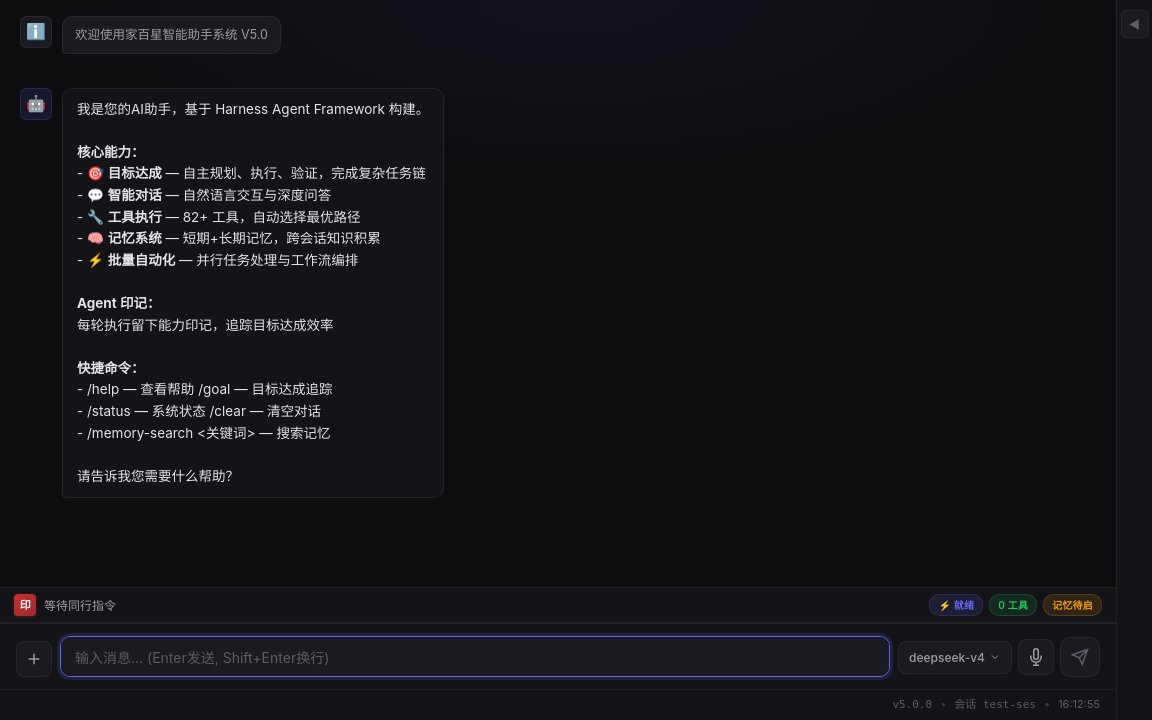
Test case: DesktopDashboard › opens and closes settings panel
点击左侧 + 号打开快捷工具菜单
Click the button titled "快捷工具".
click(34, 659)  # box [16, 641, 52, 677]
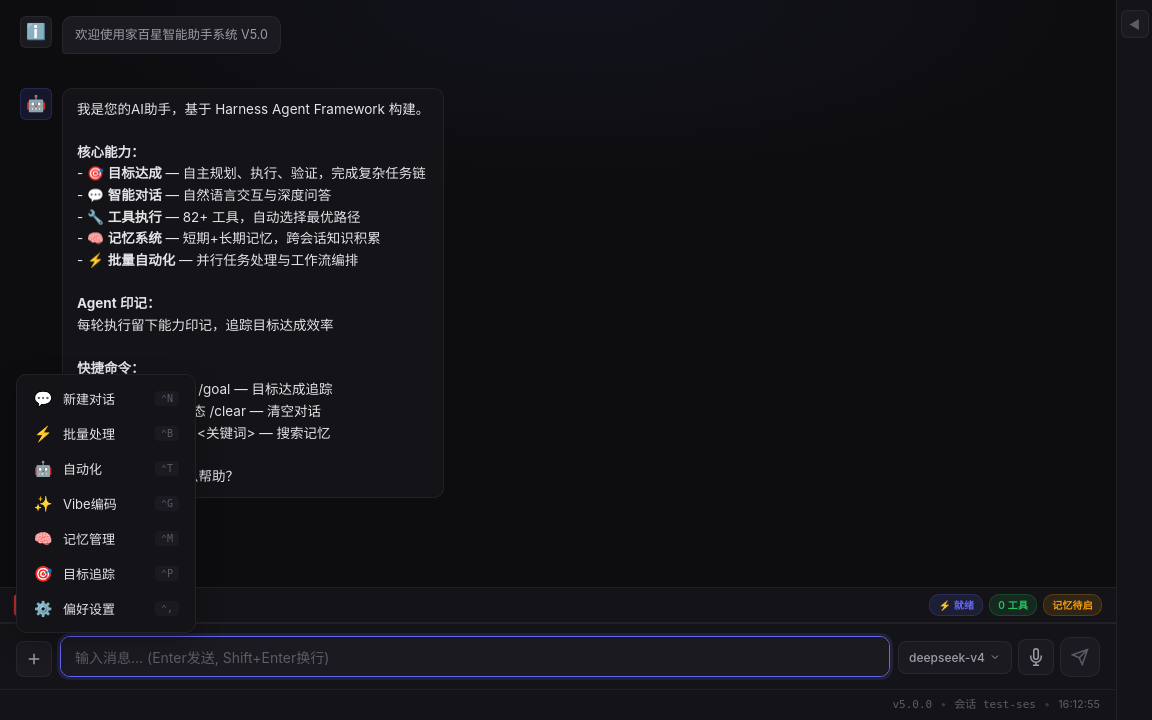
Click the text "偏好设置".
click(89, 609)  # box [63, 601, 115, 617]
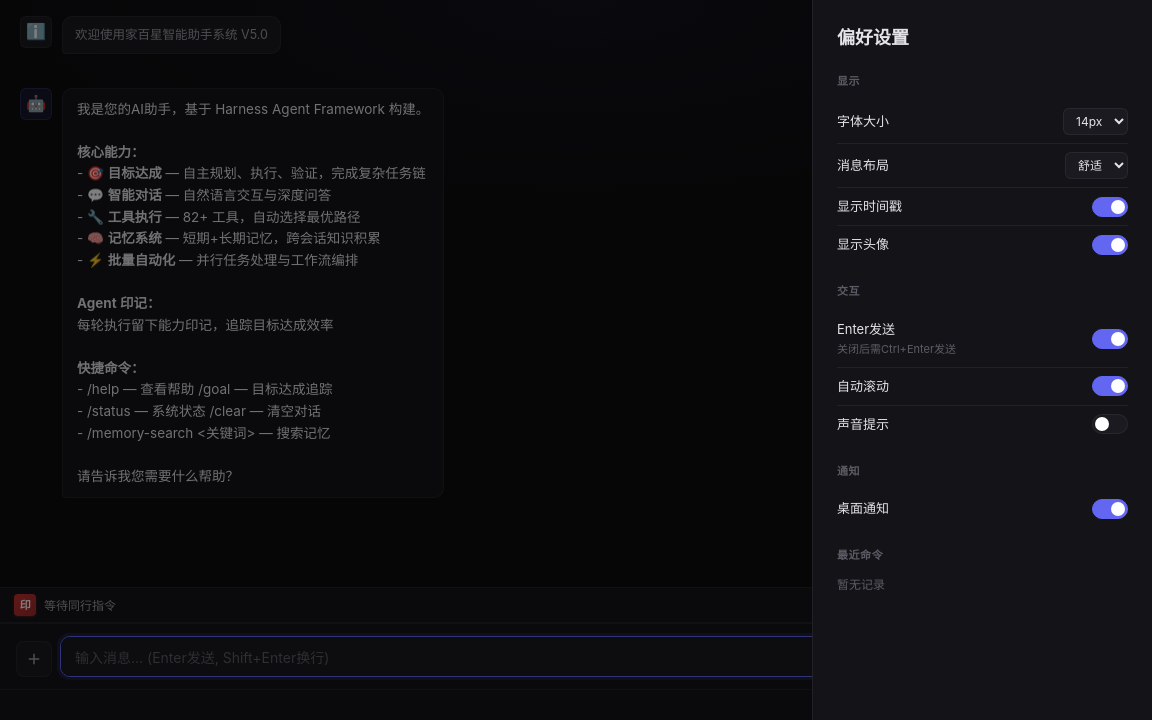
Expected: the text "偏好设置" is shown, [837, 27, 909, 48]
Expected: the text "字体大小" is shown, [837, 112, 889, 132]
Expected: the element with class "hermes-settings-overlay" is shown
Click the element with class "hermes-settings-overlay".
click(576, 360)  # box [0, 0, 1151, 719]
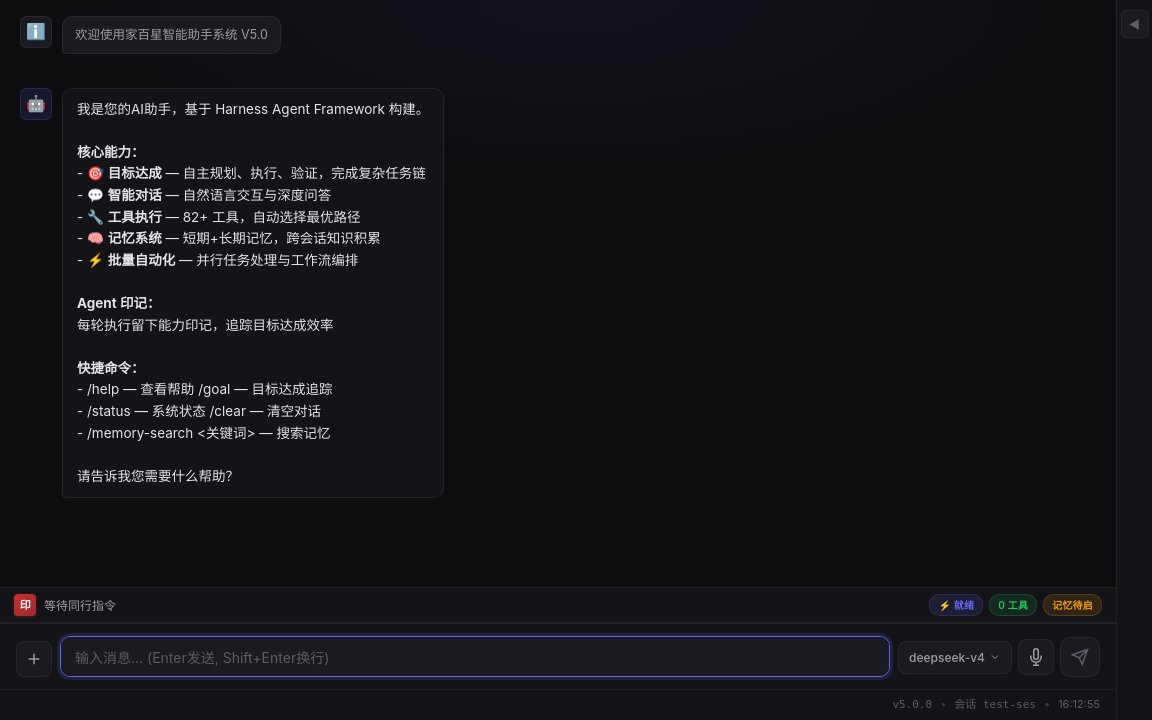
Expected: the text "偏好设置" is gone
